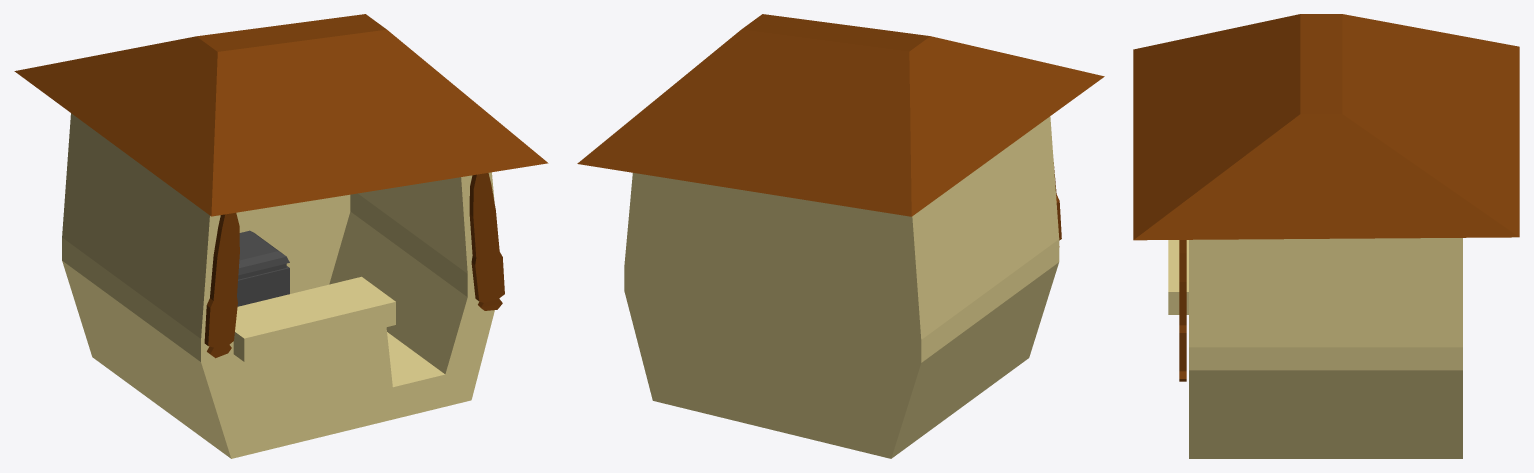
Rendered from boxVenderPeixe1-0-1.fbx.
3 views of the same model, side by side, from view 1: azimuth 30°, elevation 25°; view 2: azimuth 150°, elevation 25°; view 3: azimuth 270°, elevation 25° (orthographic).
Visible parts, largest first — view 1: Cube; view 2: Cube; view 3: Cube.
Boxes of the visible parts, bbox=[...] form: Cube: bbox=[14, 14, 548, 458]; Cube: bbox=[577, 14, 1104, 458]; Cube: bbox=[1133, 14, 1519, 458].
Bounding box in the file's own units: 501 × 503 × 503.
